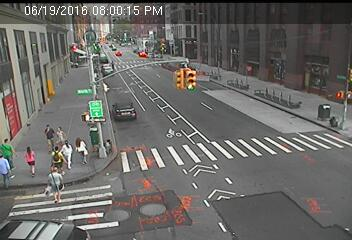neg: (272, 61, 297, 94), (69, 65, 93, 96), (99, 110, 122, 141), (131, 83, 153, 112), (306, 94, 328, 123), (242, 46, 261, 71), (123, 42, 137, 60), (165, 49, 178, 66), (79, 46, 88, 58)
pos: (41, 165, 68, 201), (15, 142, 40, 176), (72, 134, 95, 165), (51, 119, 73, 149), (31, 122, 53, 151), (57, 138, 76, 164)
